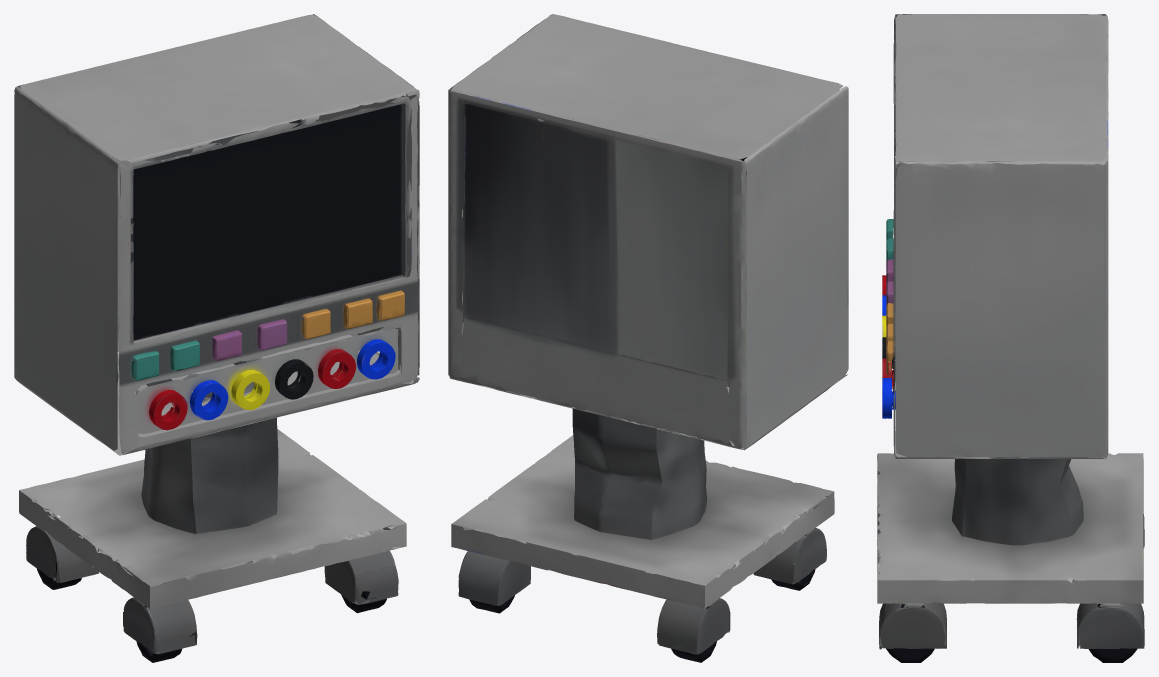
Rendered from ecg-cart.glb.
3 views of the same model, side by side, from view 1: azimuth 30°, elevation 25°; view 2: azimuth 150°, elevation 25°; view 3: azimuth 270°, elevation 25° (orthographic). The views are drawn at different scales.
Parts seen in each view (by area): view 1: geometry_0; view 2: geometry_0; view 3: geometry_0.
Boxes of the visible parts, box(x1,y1,x2,y2) form: geometry_0: box(14, 14, 419, 662); geometry_0: box(448, 14, 848, 662); geometry_0: box(877, 14, 1144, 662).
Size of the model in its own units: 0.6176 by 1 by 0.4666.
Materials: 1 (1 with a texture image).
